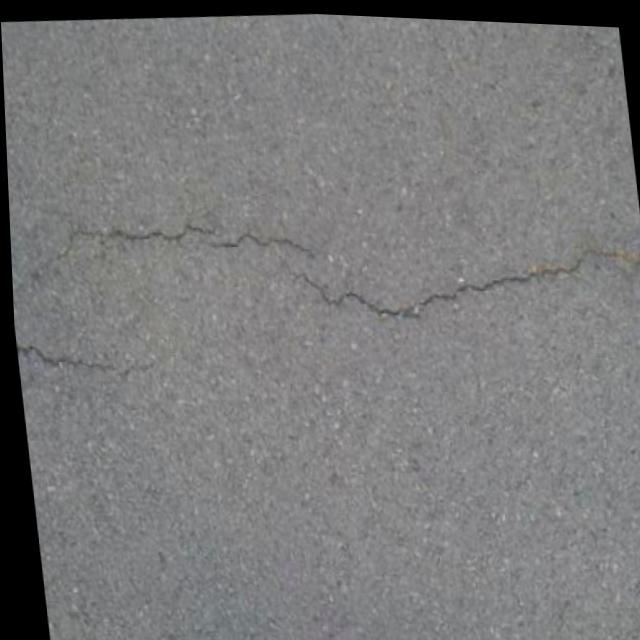Crack: (25, 147, 640, 359), (12, 319, 148, 405)
